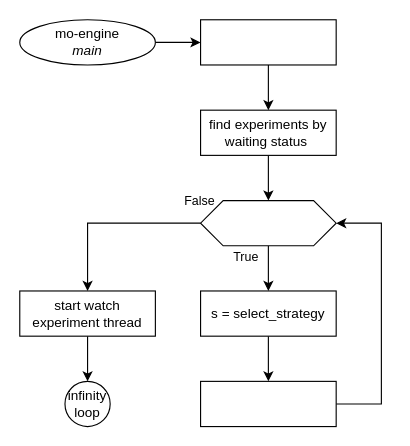
This 410x446 diagram has some shape labels left out. The shapes that lost their labels are listed below. From the top down, each one's centre as x and y in pixels, then its label:
point (267, 42): start mongo connection
point (267, 222): have pending?
point (267, 403): s.start()
